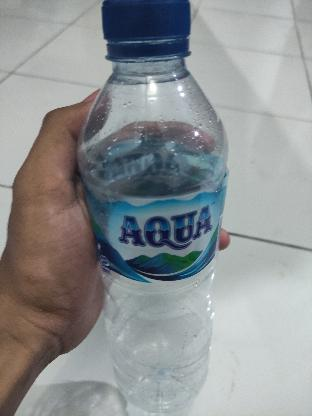Plastic Bottle: (76, 0, 232, 416)
